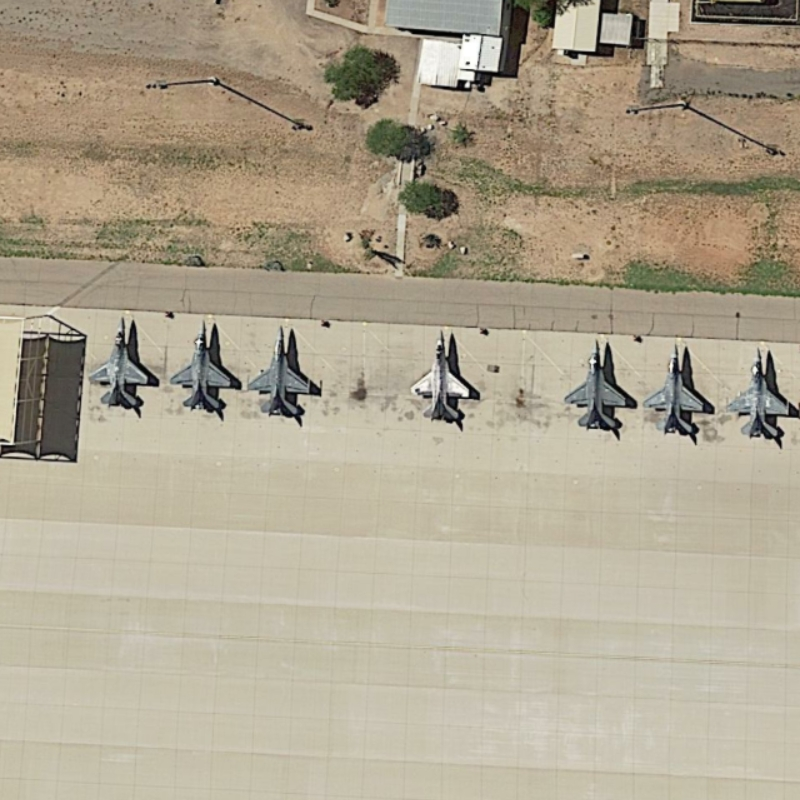A5: (243, 318, 321, 427), (172, 315, 244, 422), (641, 333, 712, 439), (410, 326, 481, 430), (565, 336, 636, 439), (726, 345, 797, 441), (92, 316, 156, 416)
